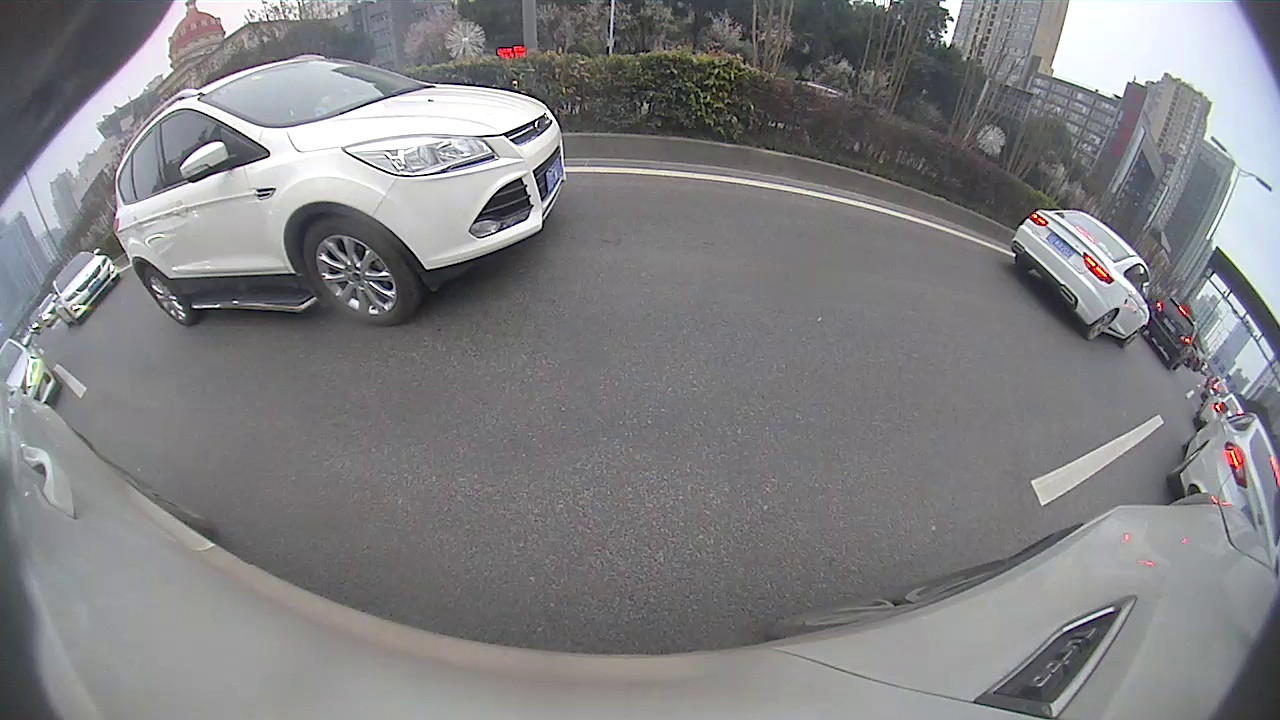car: (111, 53, 570, 330), (1009, 207, 1160, 348), (1165, 403, 1277, 554), (47, 248, 123, 327), (1, 334, 60, 406), (1147, 295, 1201, 370)
front: (301, 216, 416, 326)
rear: (141, 264, 198, 326), (1087, 308, 1117, 342)
